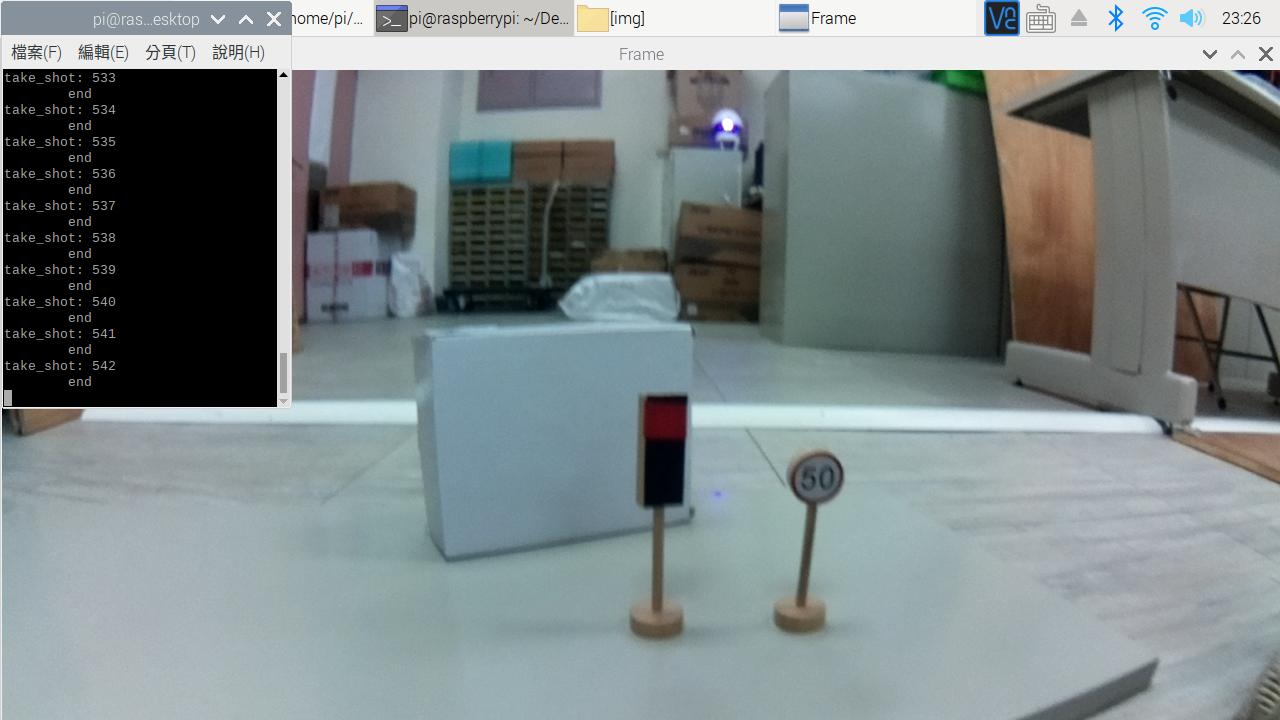Red: (629, 382, 691, 512)
Speed50: (782, 447, 870, 517)
